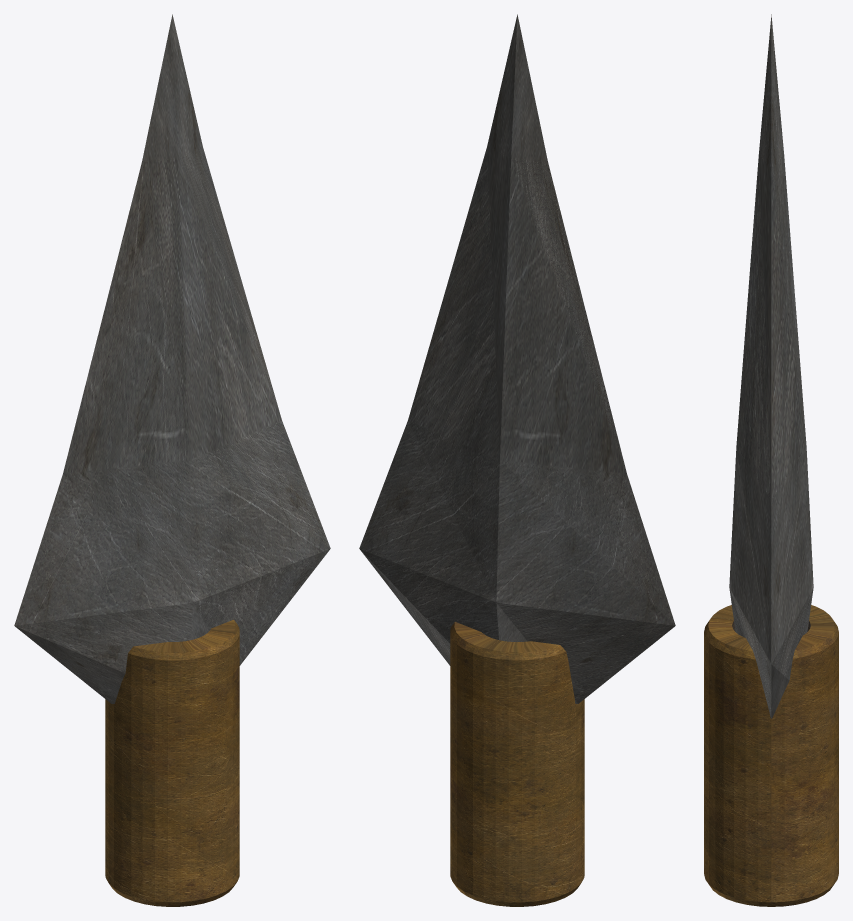
Rendered from point.obj.
The picture shows the model from 3 angles, left to right: view 1: azimuth 30°, elevation 25°; view 2: azimuth 150°, elevation 25°; view 3: azimuth 270°, elevation 25°; orthographic projection.
Visible parts, largest first — view 1: point, socket; view 2: point, socket; view 3: socket, point.
Boxes of the visible parts, x1,y1,x2,y2 form: point: (14,14,330,703); socket: (105,619,239,906); point: (359,14,675,703); socket: (450,622,584,906); socket: (704,605,838,906); point: (729,14,813,718).
Size of the model in its own units: 37.85 by 99 by 13.98.
2 materials, 2 textured.
